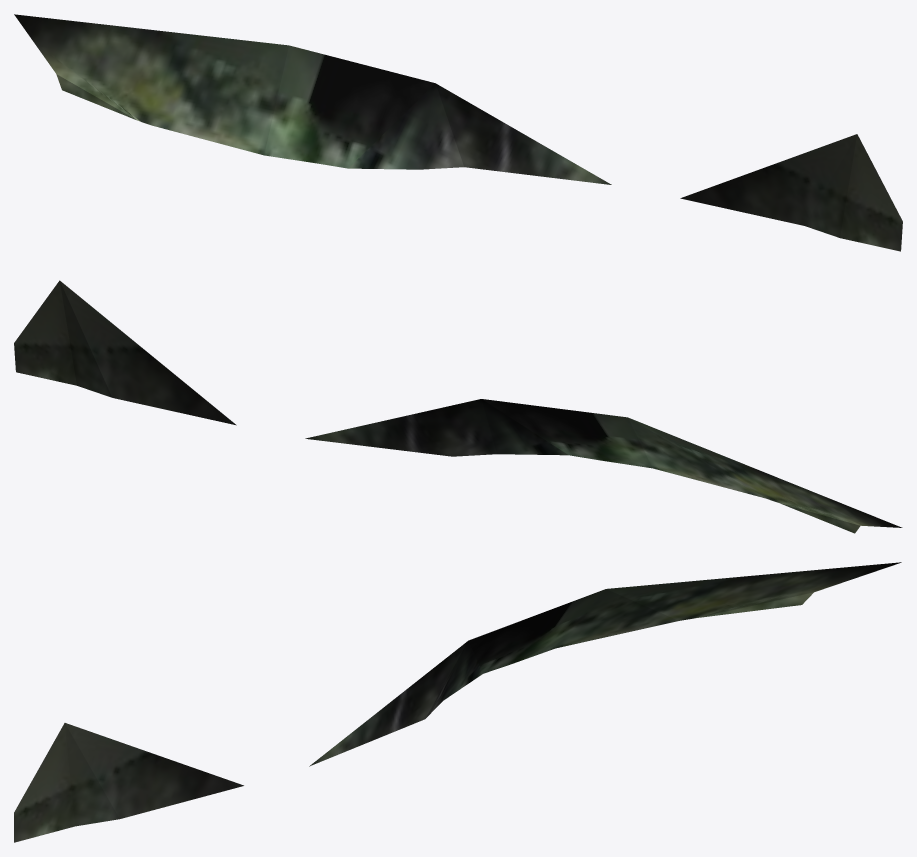
3 renders of one model, top to bottom at view 1: azimuth 30°, elevation 25°; view 2: azimuth 210°, elevation 25°; view 3: azimuth 270°, elevation 25°, orthographic. The views are drawn at different scales.
Bounding box in the file's own units: 16.18 × 3.48 × 25.46.
Materials: 1 (1 with a texture image).
